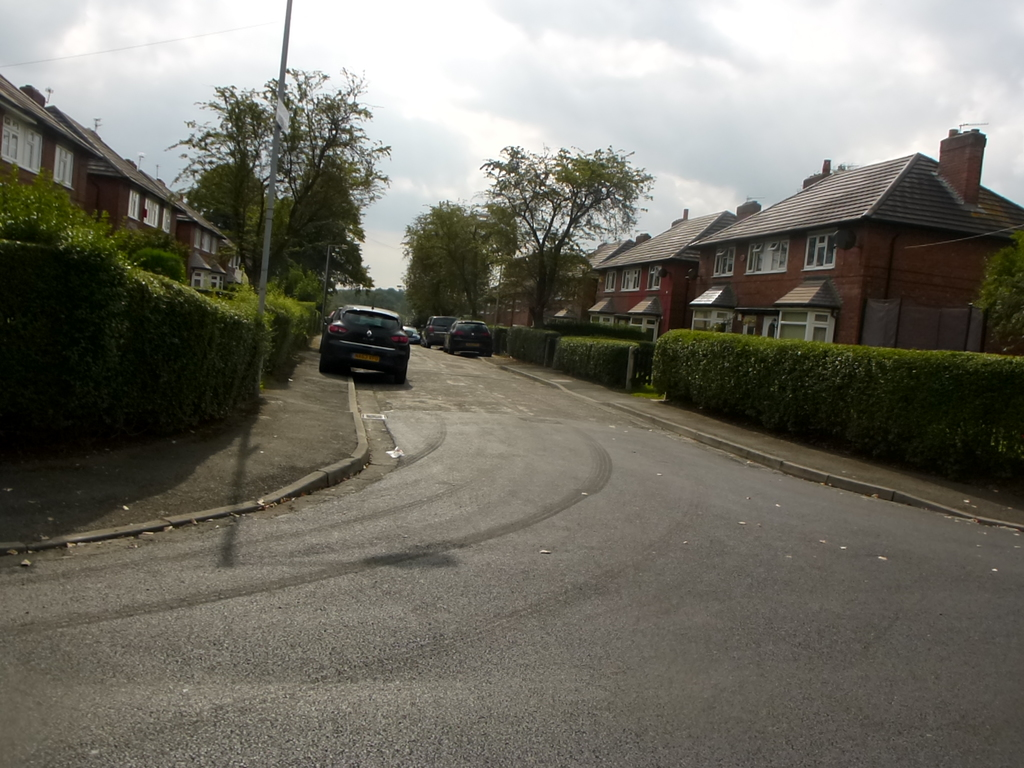Car: (313, 291, 408, 376), (447, 311, 488, 355), (423, 311, 456, 349)
